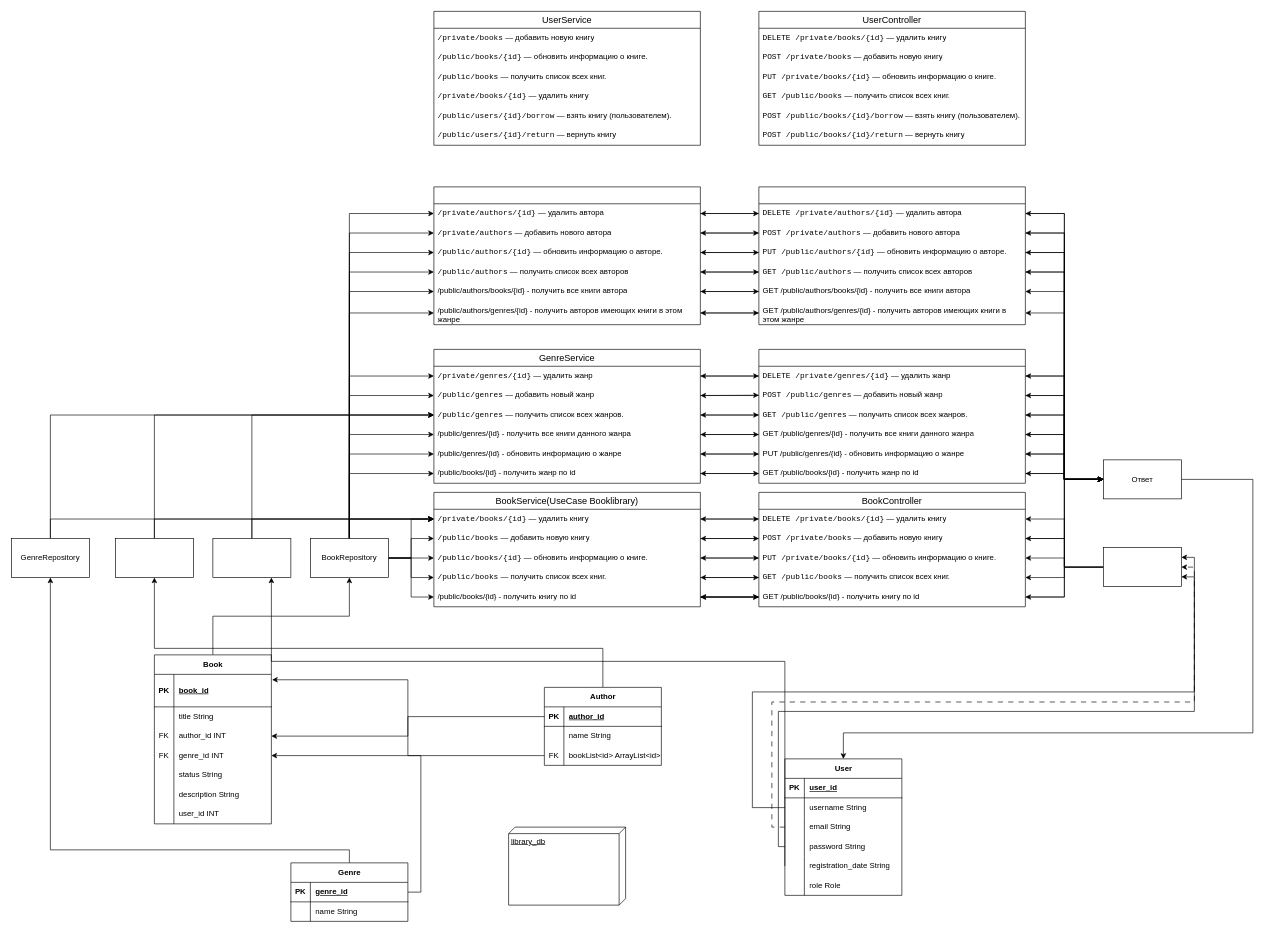
This 1269x933 diagram has some shape labels left out. The shapes that lost their labels are listed below. From the top down, each one's box as (x1, y1, x2, y2) in pixels, then its label:
(433, 186, 700, 325): AuthorService
(758, 186, 1025, 325): AuthorController
(758, 349, 1025, 483): GenreController
(115, 538, 193, 578): AuthorRepository
(212, 538, 291, 578): UserRepository
(1103, 547, 1181, 587): Регистрация/Вход(Activity BookLibrary)
